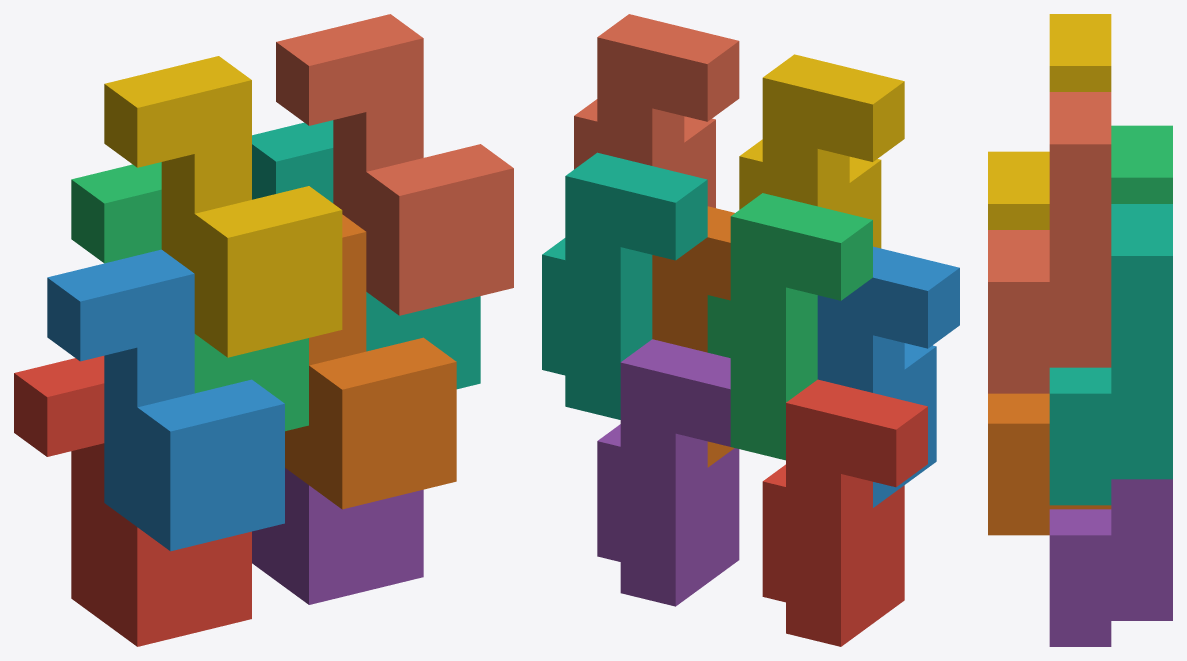
File: tiling.obj
3 renders of one model, left to right at view 1: azimuth 30°, elevation 25°; view 2: azimuth 150°, elevation 25°; view 3: azimuth 270°, elevation 25°, orthographic. The views are drawn at different scales.
Visible parts, largest first — view 1: copy_1_domain_2, copy_1_domain_4, copy_1_domain_8, copy_1_domain_1, copy_1_domain_6, copy_1_domain_5, copy_1_domain_3, copy_1_domain_7; view 2: copy_1_domain_1, copy_1_domain_5, copy_1_domain_7, copy_1_domain_3, copy_1_domain_4, copy_1_domain_8, copy_1_domain_2, copy_1_domain_6; view 3: copy_1_domain_8, copy_1_domain_7, copy_1_domain_5, copy_1_domain_4, copy_1_domain_6, copy_1_domain_3.
Part boxes in pixels (x1,y1,x2,y2): copy_1_domain_2: [47, 249, 284, 551]; copy_1_domain_4: [104, 56, 342, 357]; copy_1_domain_8: [276, 14, 513, 315]; copy_1_domain_1: [14, 356, 251, 646]; copy_1_domain_6: [285, 214, 456, 509]; copy_1_domain_5: [252, 468, 423, 604]; copy_1_domain_3: [71, 162, 308, 431]; copy_1_domain_7: [252, 120, 480, 389]; copy_1_domain_1: [762, 379, 927, 646]; copy_1_domain_5: [597, 339, 739, 606]; copy_1_domain_7: [542, 152, 707, 419]; copy_1_domain_3: [707, 193, 872, 460]; copy_1_domain_4: [739, 54, 904, 248]; copy_1_domain_8: [574, 14, 739, 207]; copy_1_domain_2: [817, 246, 959, 507]; copy_1_domain_6: [652, 206, 734, 467]; copy_1_domain_8: [988, 92, 1111, 393]; copy_1_domain_7: [1049, 204, 1172, 505]; copy_1_domain_5: [1049, 479, 1172, 646]; copy_1_domain_4: [988, 14, 1111, 229]; copy_1_domain_6: [988, 393, 1111, 535]; copy_1_domain_3: [1111, 125, 1172, 203].
Bounding box in the file's own units: 7 × 9 × 3.
